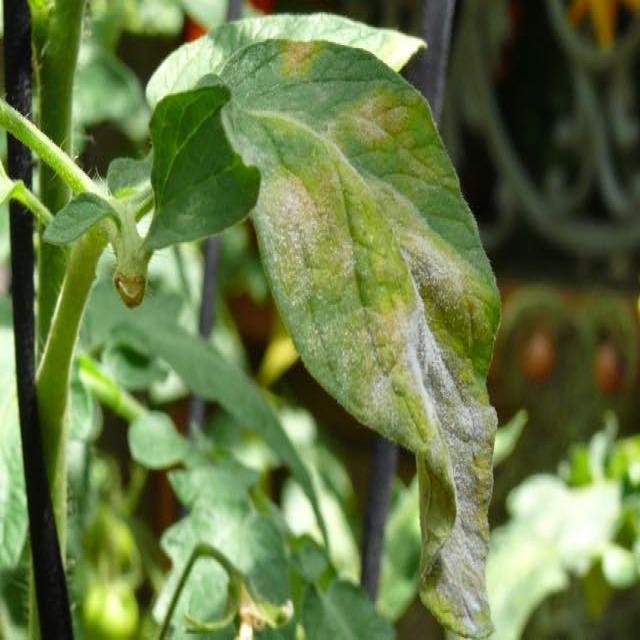Leaf_Mold: (245, 172, 520, 636)
